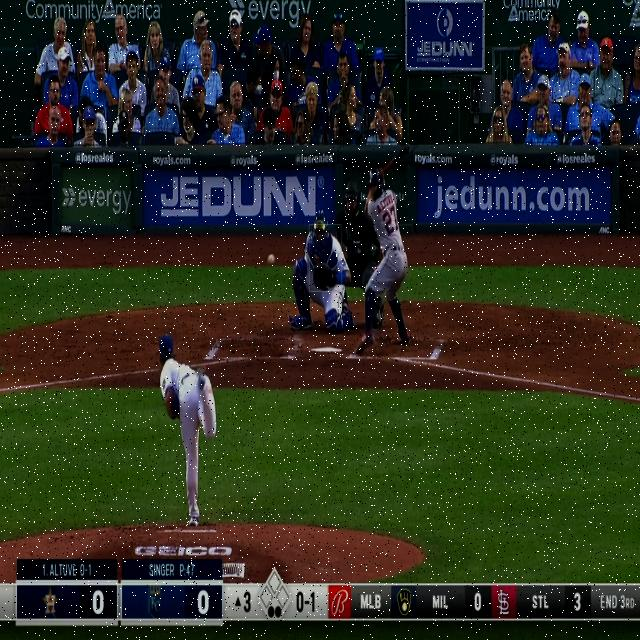baseball: (267, 253, 275, 266)
